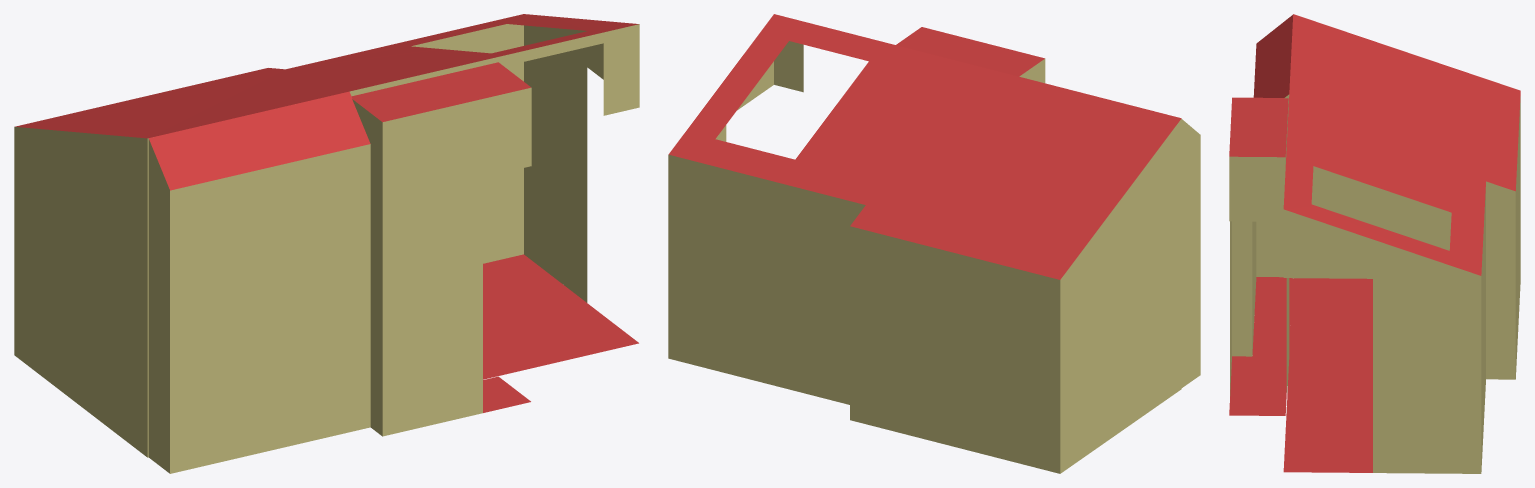
3 views of the same model, side by side, from view 1: azimuth 30°, elevation 25°; view 2: azimuth 150°, elevation 25°; view 3: azimuth 270°, elevation 25° (orthographic). The views are drawn at different scales.
Parts seen in each view (by area): view 1: group_4, group_7, group_10, group_6, group_3, group_8, group_9, group_11; view 2: group_7, group_6, group_4, group_9; view 3: group_7, group_6, group_8, group_10, group_9, group_11, group_5, group_3, group_4.
Part boxes in pixels (left/top/right/bottom): group_4: left=148, top=139, right=370, bottom=473; group_7: left=14, top=24, right=639, bottom=457; group_10: left=352, top=87, right=531, bottom=436; group_6: left=15, top=14, right=638, bottom=138; group_3: left=149, top=91, right=370, bottom=190; group_8: left=483, top=254, right=638, bottom=379; group_9: left=351, top=62, right=530, bottom=122; group_11: left=483, top=376, right=530, bottom=412; group_7: left=668, top=41, right=1181, bottom=473; group_6: left=668, top=14, right=1181, bottom=279; group_4: left=1181, top=119, right=1200, bottom=387; group_9: left=896, top=27, right=1044, bottom=76; group_7: left=1283, top=96, right=1520, bottom=473; group_6: left=1283, top=14, right=1520, bottom=275; group_8: left=1283, top=278, right=1372, bottom=472; group_10: left=1229, top=101, right=1288, bottom=395; group_9: left=1229, top=97, right=1288, bottom=157; group_11: left=1229, top=356, right=1286, bottom=415; group_5: left=1252, top=277, right=1292, bottom=356; group_3: left=1253, top=14, right=1293, bottom=97; group_4: left=1252, top=94, right=1289, bottom=355.
Bounding box in the file's own units: 20.68 × 12.93 × 12.86.
